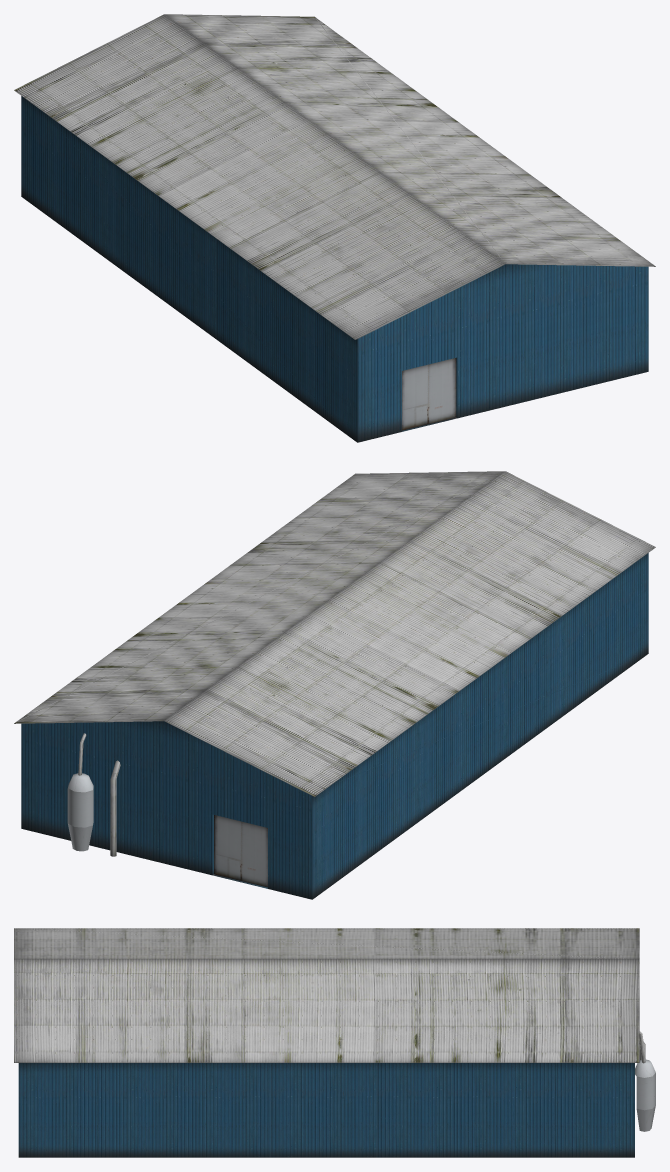
File: Angar1.fbx
The picture shows the model from 3 angles, top to bottom: view 1: azimuth 30°, elevation 25°; view 2: azimuth 150°, elevation 25°; view 3: azimuth 270°, elevation 25°; orthographic projection. The views are drawn at different scales.
Visible parts, largest first — view 1: Box001; view 2: Box001; view 3: Box001.
Part boxes in pixels (box(x1,y1,x2,y2)): Box001: box(14, 14, 655, 442); Box001: box(14, 471, 655, 899); Box001: box(14, 928, 655, 1157).
Bounding box in the file's own units: 20.65 × 9.52 × 41.65.
1 material, 1 textured.
